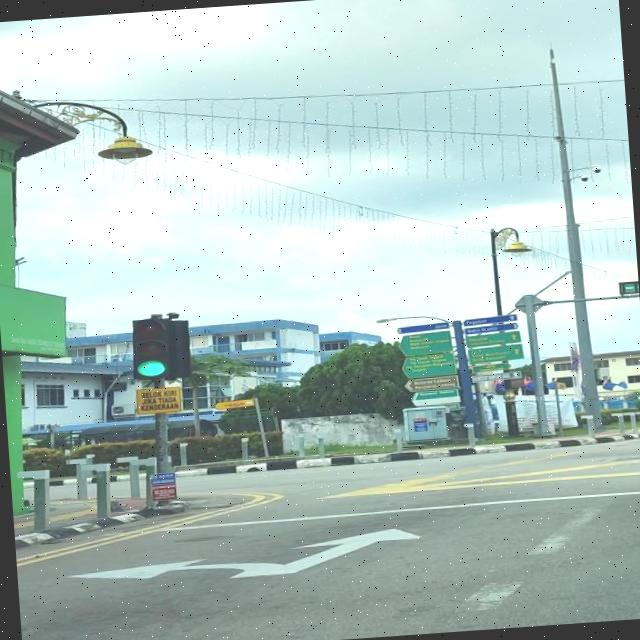green_light: (130, 315, 172, 381)
